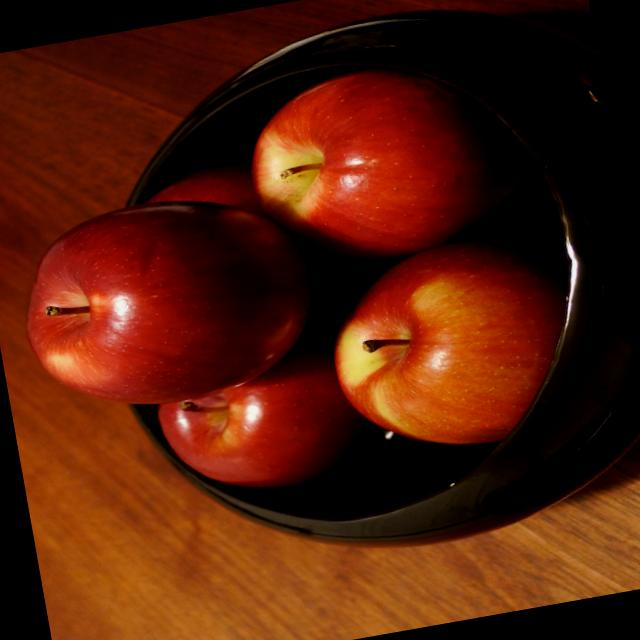alpple: (6, 178, 316, 424), (228, 52, 511, 286), (313, 228, 577, 466)
